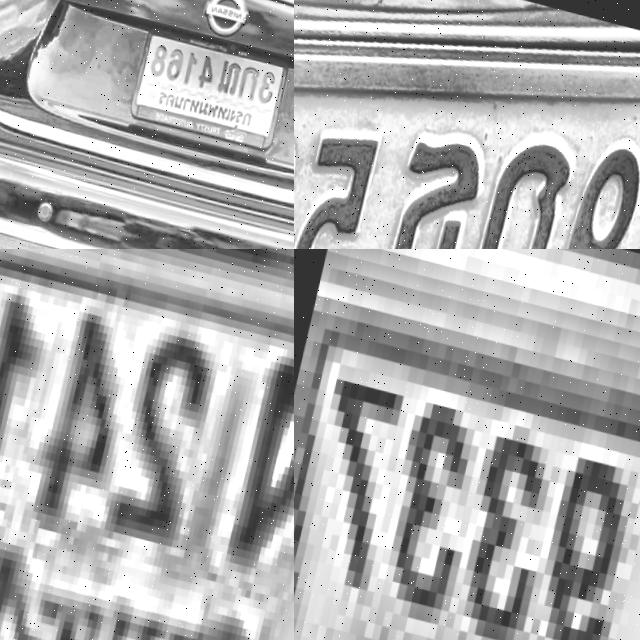license-plate: (294, 249, 640, 640), (0, 249, 294, 640), (294, 0, 640, 249), (123, 5, 294, 157)
